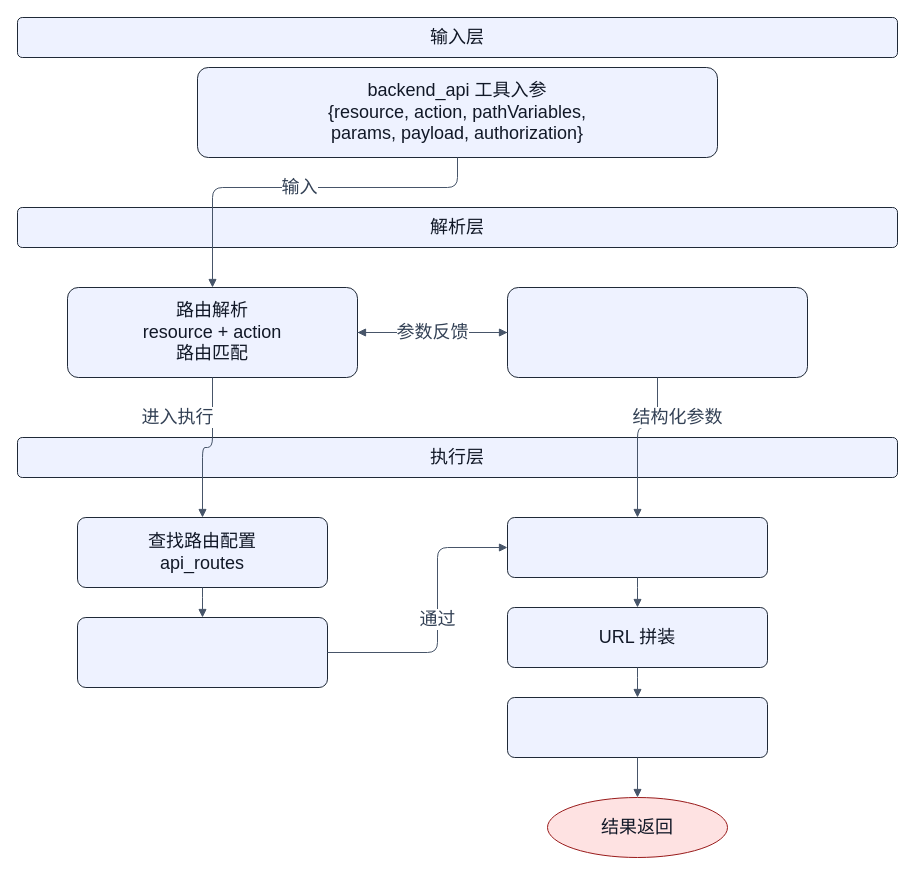
The diagram is 915 pixels wide and 875 high, and some of its shapes have lost their labels. The box of each missing label's shape, as (x1, y1, x2, y2) in pixels:
参数校验: (506, 516, 768, 578)
参数解析 params / payload / pathVariables 结构化参数: (506, 286, 808, 378)
接口转发: (506, 696, 768, 758)
状态校验 enabled: (76, 616, 328, 688)
